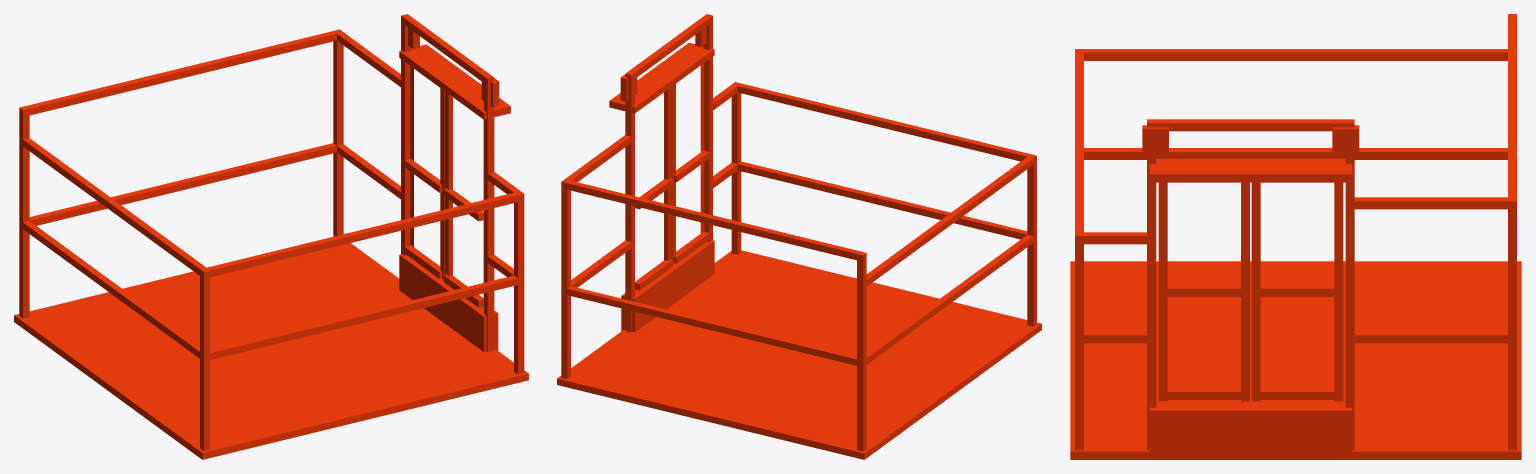
File: Rift_Floor.fbx
3 views of the same model, side by side, from view 1: azimuth 30°, elevation 25°; view 2: azimuth 150°, elevation 25°; view 3: azimuth 270°, elevation 25° (orthographic). The views are drawn at different scales.
Parts seen in each view (by area): view 1: Cube.004; view 2: Cube.004; view 3: Cube.004.
Part boxes in pixels (box(x1,y1,x2,y2)): Cube.004: box(14, 14, 528, 459); Cube.004: box(557, 14, 1041, 459); Cube.004: box(1070, 14, 1521, 459).
Size of the model in its own units: 523 by 410 by 500.
